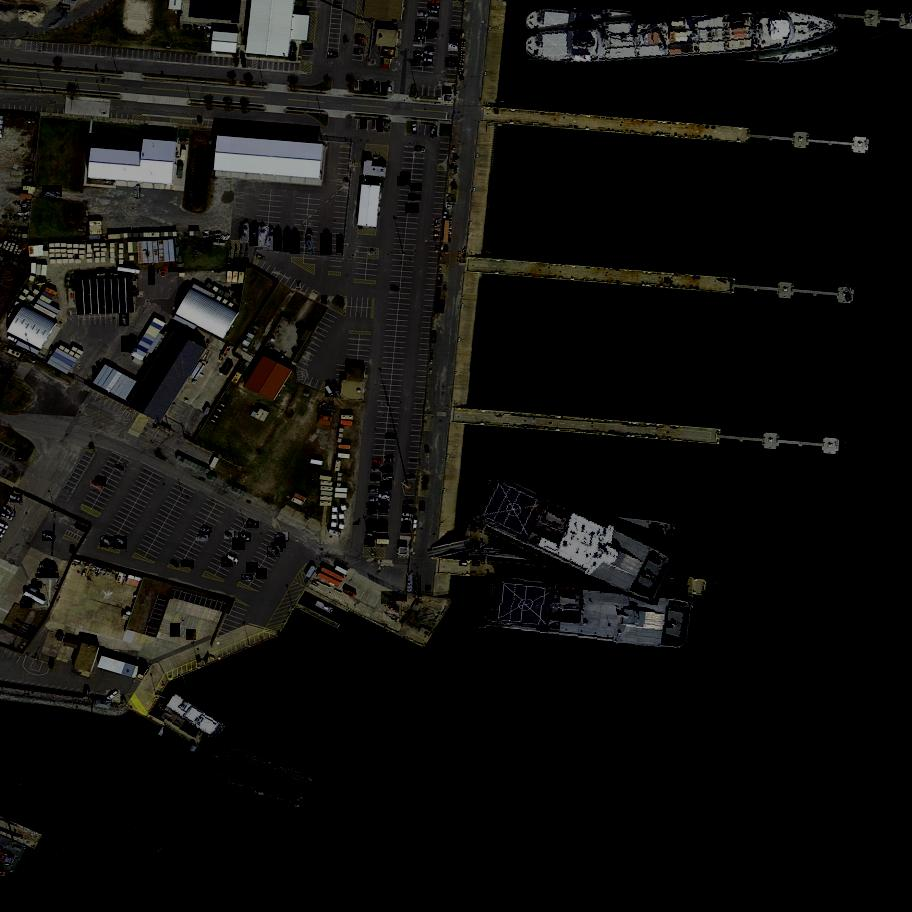large-vehicle: (121, 336, 137, 353), (148, 269, 155, 285), (28, 587, 39, 595), (37, 573, 58, 577), (135, 186, 139, 198)
ship: (470, 472, 674, 606), (524, 9, 838, 65), (486, 578, 694, 654), (203, 737, 330, 818), (166, 692, 227, 742), (254, 227, 270, 248), (264, 228, 278, 251), (321, 233, 334, 256), (304, 233, 317, 255), (291, 231, 302, 255), (42, 184, 62, 197), (273, 229, 283, 252), (382, 591, 397, 605), (386, 603, 401, 617), (284, 231, 293, 253), (240, 223, 249, 243), (336, 234, 345, 254), (41, 193, 60, 202), (250, 225, 258, 246), (383, 612, 399, 622), (413, 575, 421, 593), (390, 594, 407, 601), (407, 573, 413, 591), (446, 195, 457, 203)
small-vehicle: (106, 690, 121, 703), (113, 536, 127, 549), (232, 538, 245, 551), (3, 505, 16, 518), (100, 536, 114, 548), (325, 384, 337, 398), (247, 562, 260, 574), (268, 547, 281, 559), (43, 531, 56, 543), (225, 554, 239, 565), (171, 623, 182, 637), (405, 204, 420, 214), (275, 537, 287, 549), (95, 476, 107, 488), (15, 450, 26, 463), (119, 314, 130, 327), (238, 532, 251, 543), (90, 480, 103, 491), (397, 177, 411, 187), (272, 542, 284, 553), (256, 568, 268, 579), (221, 557, 233, 568), (186, 629, 197, 641), (445, 58, 458, 68), (449, 28, 462, 38), (1, 512, 14, 522), (411, 123, 421, 136), (277, 532, 289, 542), (114, 464, 126, 474), (10, 495, 23, 504), (170, 559, 181, 569), (448, 43, 460, 52), (410, 183, 422, 192), (402, 505, 414, 514), (378, 118, 385, 133), (367, 81, 375, 94), (378, 493, 391, 501), (40, 565, 57, 571), (225, 530, 235, 540), (372, 458, 383, 467), (428, 22, 440, 30), (415, 21, 427, 29), (383, 120, 391, 132), (368, 486, 380, 494), (380, 481, 392, 489), (361, 82, 369, 94), (376, 520, 388, 528), (354, 34, 367, 41), (181, 561, 194, 568), (430, 126, 438, 137), (366, 524, 377, 532), (414, 36, 426, 43), (413, 51, 425, 58), (196, 535, 208, 542), (247, 521, 259, 528), (20, 601, 32, 608), (385, 433, 397, 440), (409, 194, 421, 201), (23, 596, 33, 604), (381, 82, 387, 95), (32, 581, 43, 588), (383, 467, 394, 474), (415, 27, 427, 33), (200, 527, 212, 533), (424, 61, 434, 68), (411, 60, 421, 67), (390, 286, 400, 293), (199, 532, 210, 538), (371, 466, 382, 472), (427, 4, 440, 9), (364, 540, 373, 547), (413, 41, 423, 47), (449, 39, 459, 45), (382, 476, 394, 481), (370, 476, 380, 482), (400, 173, 410, 179), (401, 528, 411, 534), (365, 531, 375, 537), (367, 509, 377, 515), (379, 500, 389, 506), (427, 33, 435, 40), (302, 44, 313, 49), (242, 574, 253, 579), (367, 502, 378, 507), (355, 40, 364, 46), (429, 9, 439, 14), (328, 52, 338, 57), (375, 84, 380, 94), (414, 58, 424, 63), (406, 475, 416, 480), (401, 522, 411, 527), (402, 513, 412, 518), (378, 509, 388, 514), (83, 691, 89, 699), (321, 296, 327, 304), (427, 29, 436, 34), (387, 86, 392, 95), (380, 489, 389, 494), (419, 502, 424, 511), (377, 505, 386, 510), (377, 527, 388, 531), (415, 32, 425, 36), (361, 118, 365, 128), (385, 457, 393, 462), (355, 80, 359, 90), (368, 498, 378, 502), (424, 52, 433, 56), (424, 58, 433, 62), (450, 36, 459, 40), (354, 48, 363, 52), (404, 500, 413, 504), (296, 281, 301, 288), (417, 13, 428, 16), (373, 119, 376, 130), (428, 14, 438, 17), (401, 518, 411, 521), (424, 47, 431, 51), (148, 624, 157, 627), (414, 148, 424, 150), (431, 0, 439, 2)
